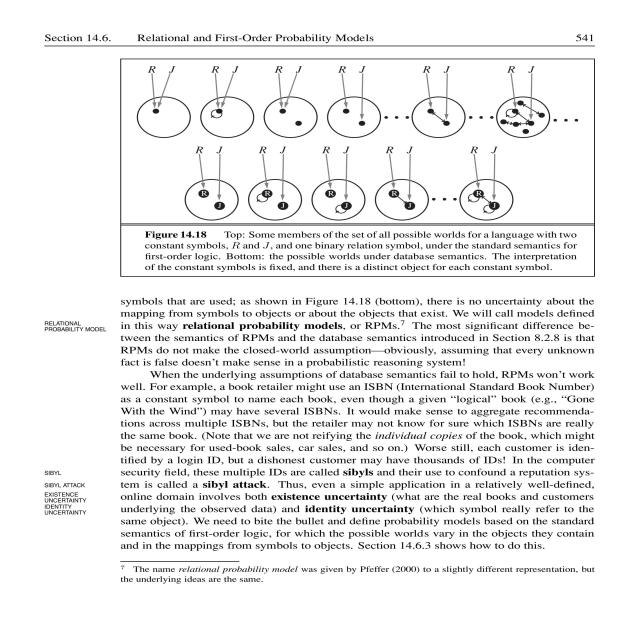diagram: (114, 58, 590, 274)
